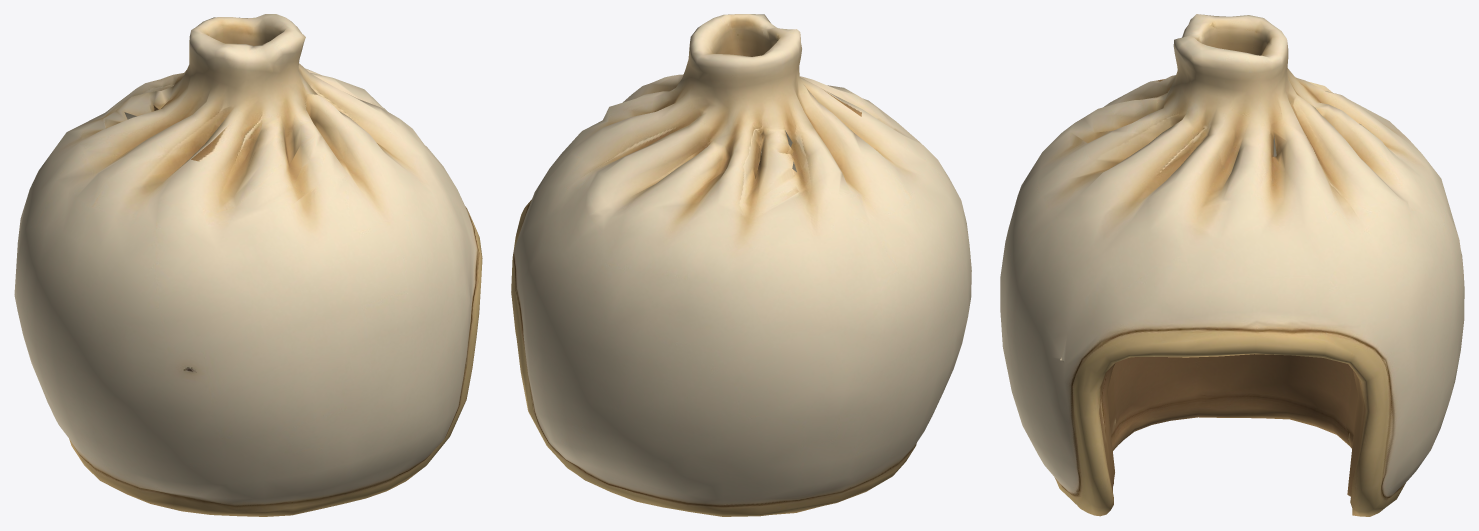
File: tripo_convert_198d5ae8-6c8b-4f56-9698-e5f439ef634c.fbx
The picture shows the model from 3 angles, left to right: view 1: azimuth 30°, elevation 25°; view 2: azimuth 150°, elevation 25°; view 3: azimuth 270°, elevation 25°; orthographic projection. The views are drawn at different scales.
Visible parts, largest first — view 1: tripo_node_198d5ae8; view 2: tripo_node_198d5ae8; view 3: tripo_node_198d5ae8.
Boxes of the visible parts, bbox=[...] form: tripo_node_198d5ae8: bbox=[14, 14, 482, 516]; tripo_node_198d5ae8: bbox=[511, 14, 971, 516]; tripo_node_198d5ae8: bbox=[1000, 14, 1464, 516].
Size of the model in its own units: 0.9725 by 0.9937 by 0.9521.
1 material, 1 textured.
